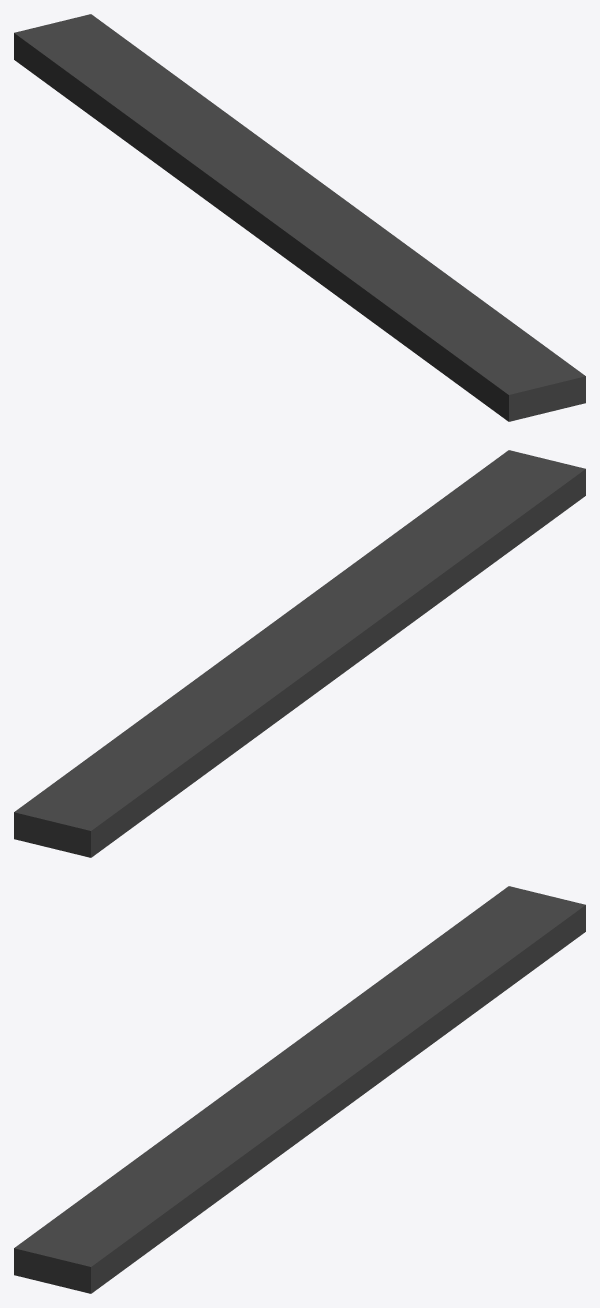
Rendered from Water.obj.
The picture shows the model from 3 angles, top to bottom: view 1: azimuth 30°, elevation 25°; view 2: azimuth 150°, elevation 25°; view 3: azimuth 330°, elevation 25°; orthographic projection.
Bounding box in the file's own units: 9 × 3 × 100.
